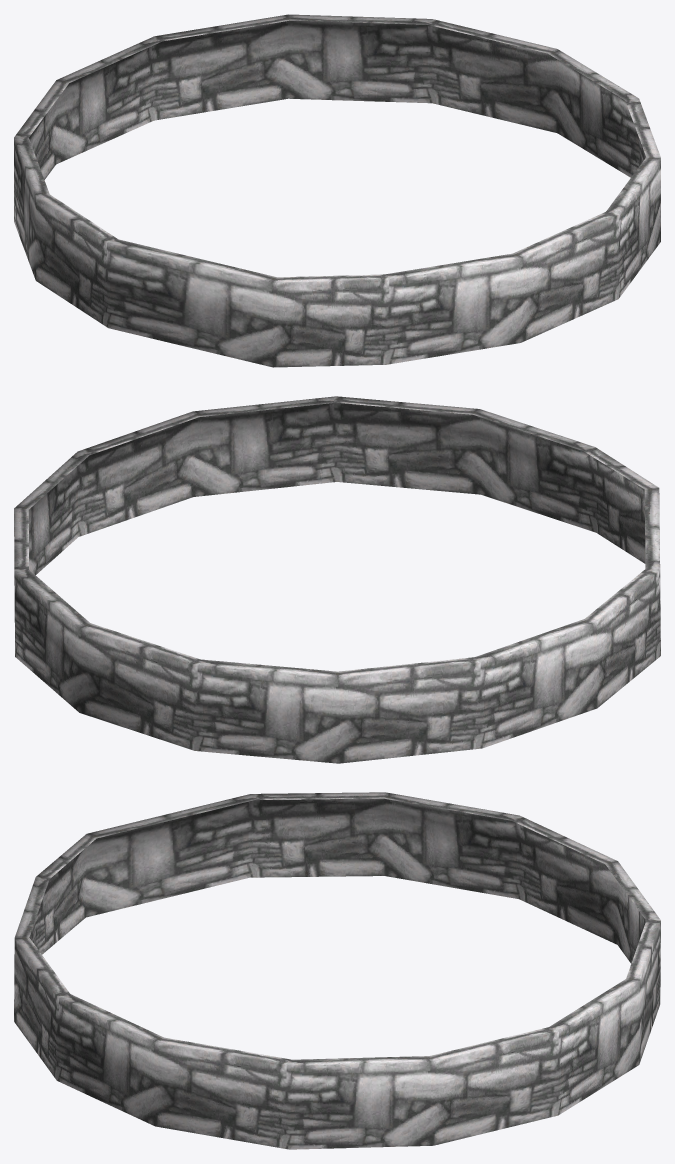
The model's file is HTOWN01_HANNA-BASE01.fbx.
The picture shows the model from 3 angles, top to bottom: view 1: azimuth 30°, elevation 25°; view 2: azimuth 150°, elevation 25°; view 3: azimuth 270°, elevation 25°; orthographic projection. The views are drawn at different scales.
Parts seen in each view (by area): view 1: HTOWN01_HANNA-BASE01; view 2: HTOWN01_HANNA-BASE01; view 3: HTOWN01_HANNA-BASE01.
Part boxes in pixels (bbox=[...]): HTOWN01_HANNA-BASE01: bbox=[14, 14, 660, 367]; HTOWN01_HANNA-BASE01: bbox=[14, 396, 660, 763]; HTOWN01_HANNA-BASE01: bbox=[14, 792, 660, 1149].
Bounding box in the file's own units: 69299 × 10617 × 69857.
1 material, 1 textured.
